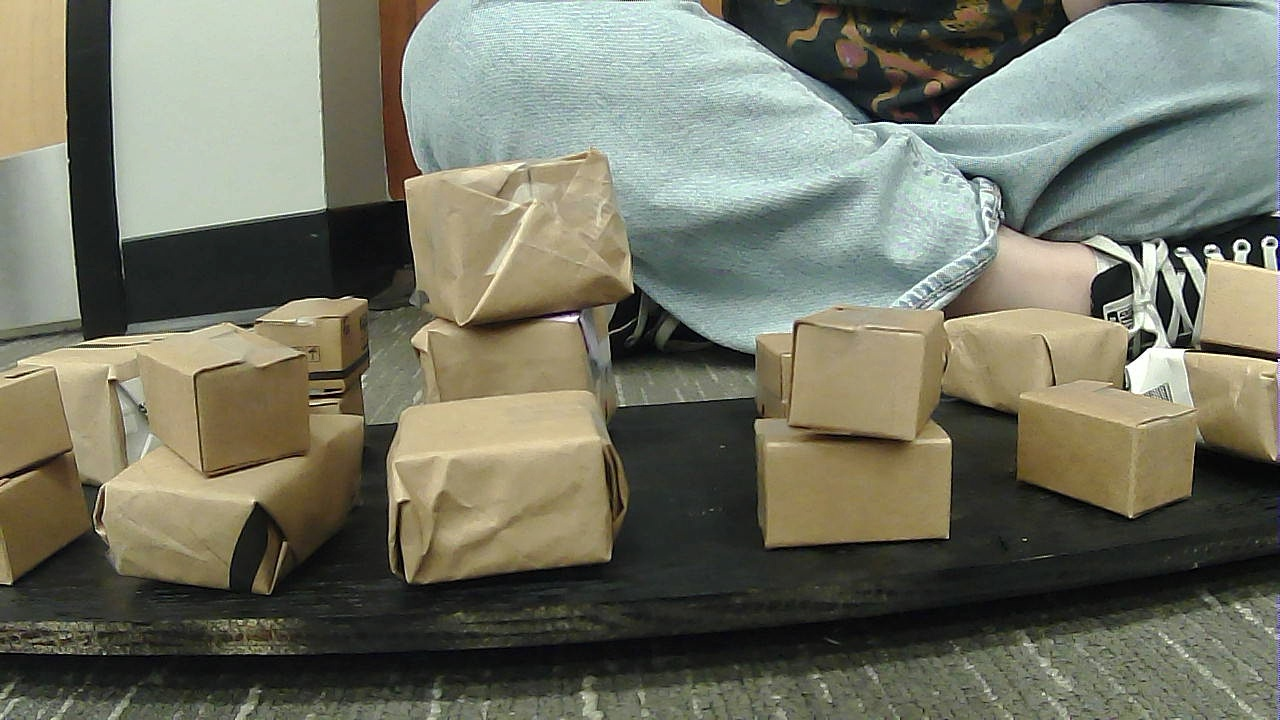package: (101, 413, 374, 599), (374, 394, 624, 586), (392, 168, 661, 306), (137, 324, 320, 476), (742, 419, 966, 543), (402, 313, 624, 438), (1020, 373, 1185, 530), (778, 298, 949, 439), (943, 300, 1139, 406), (1135, 346, 1277, 461), (43, 325, 155, 454), (1183, 254, 1276, 364), (0, 357, 82, 475), (247, 302, 361, 385), (1, 474, 88, 582)
stacked: (97, 322, 362, 607), (396, 159, 635, 451), (746, 290, 952, 536), (1158, 245, 1273, 463), (0, 357, 93, 578)
